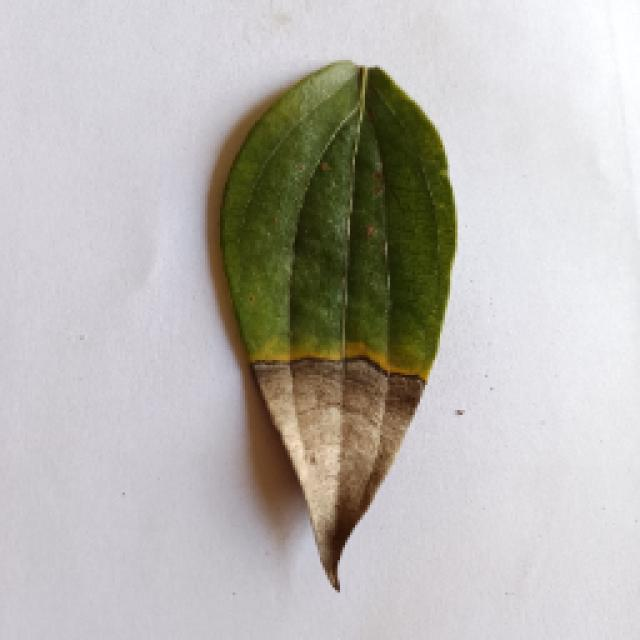footrot: (212, 57, 458, 595)
